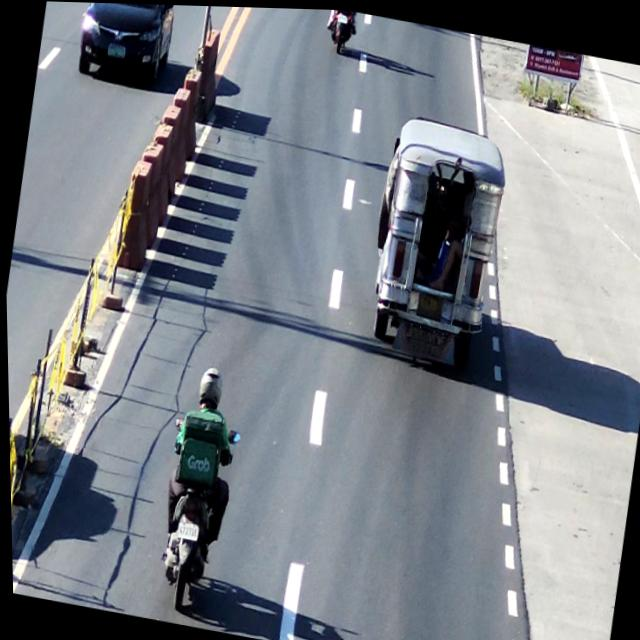Jeep: (355, 107, 517, 376)
License-Plate: (410, 290, 444, 321), (171, 516, 201, 542)
Motorcycle: (136, 355, 255, 623), (326, 8, 363, 53)
